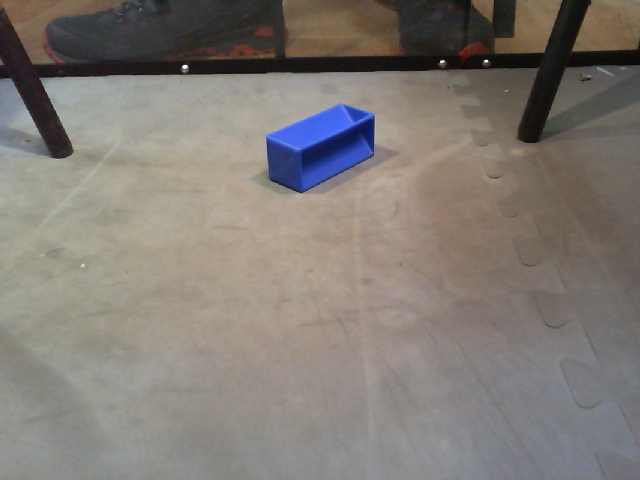BlueSample: (263, 101, 378, 195)
